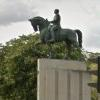Statue: (19, 11, 100, 71)
